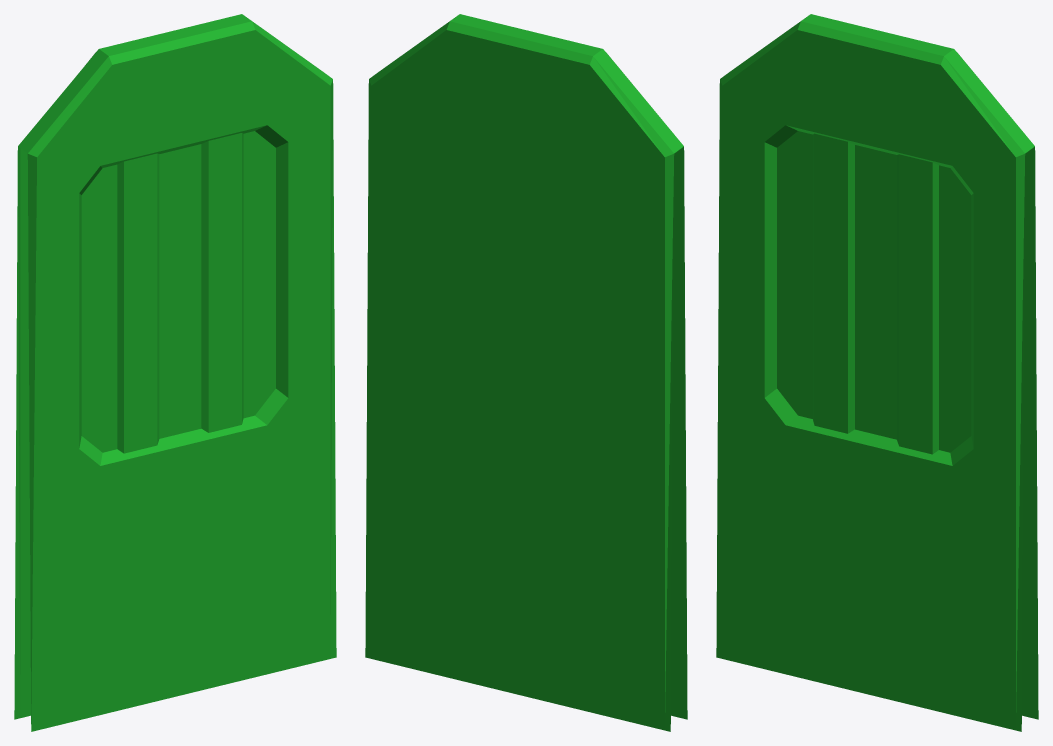
Rendered from SideDoor.FBX.
The picture shows the model from 3 angles, left to right: view 1: azimuth 30°, elevation 25°; view 2: azimuth 150°, elevation 25°; view 3: azimuth 330°, elevation 25°; orthographic projection.
Visible parts, largest first — view 1: SideDoorderp; view 2: SideDoorderp; view 3: SideDoorderp.
Part boxes in pixels (box(x1,y1,x2,y2)): SideDoorderp: box(14, 14, 336, 731); SideDoorderp: box(365, 14, 687, 731); SideDoorderp: box(716, 14, 1038, 731).
Size of the model in its own units: 41.39 by 84.65 by 3.94.
